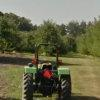Tractor: (17, 36, 77, 100)
